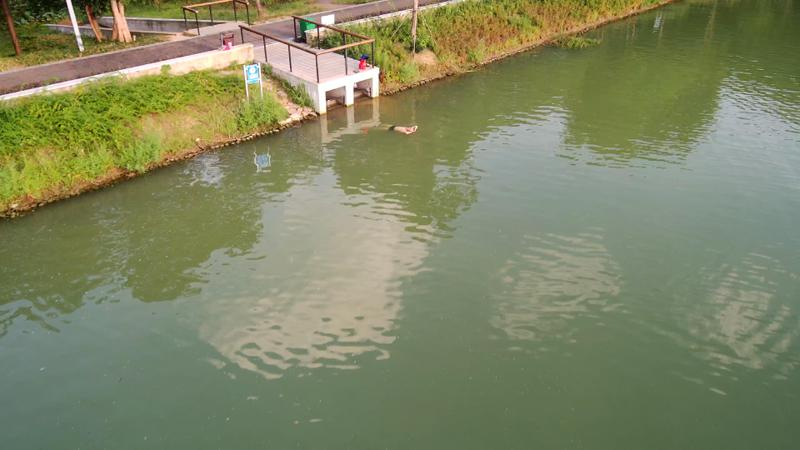swimmers: (376, 122, 418, 136)
